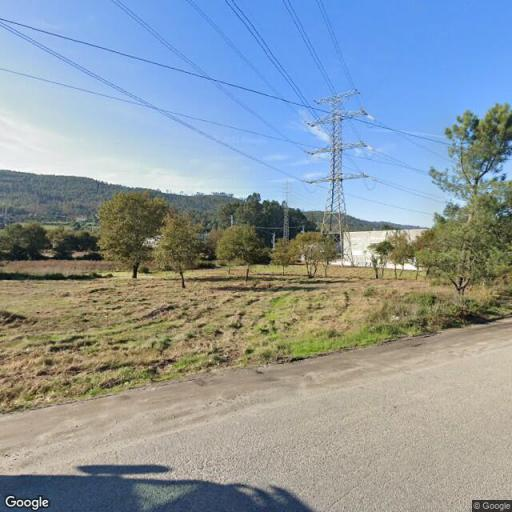ss_3: (302, 92, 374, 266)
